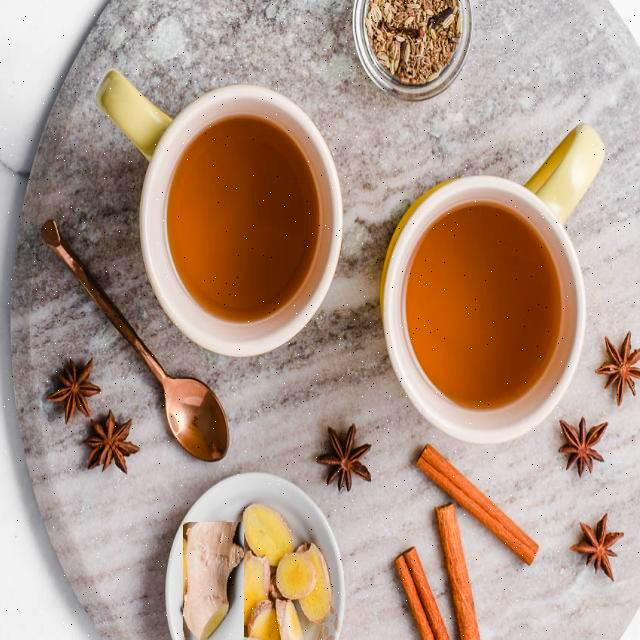ginger: (182, 521, 243, 639)
